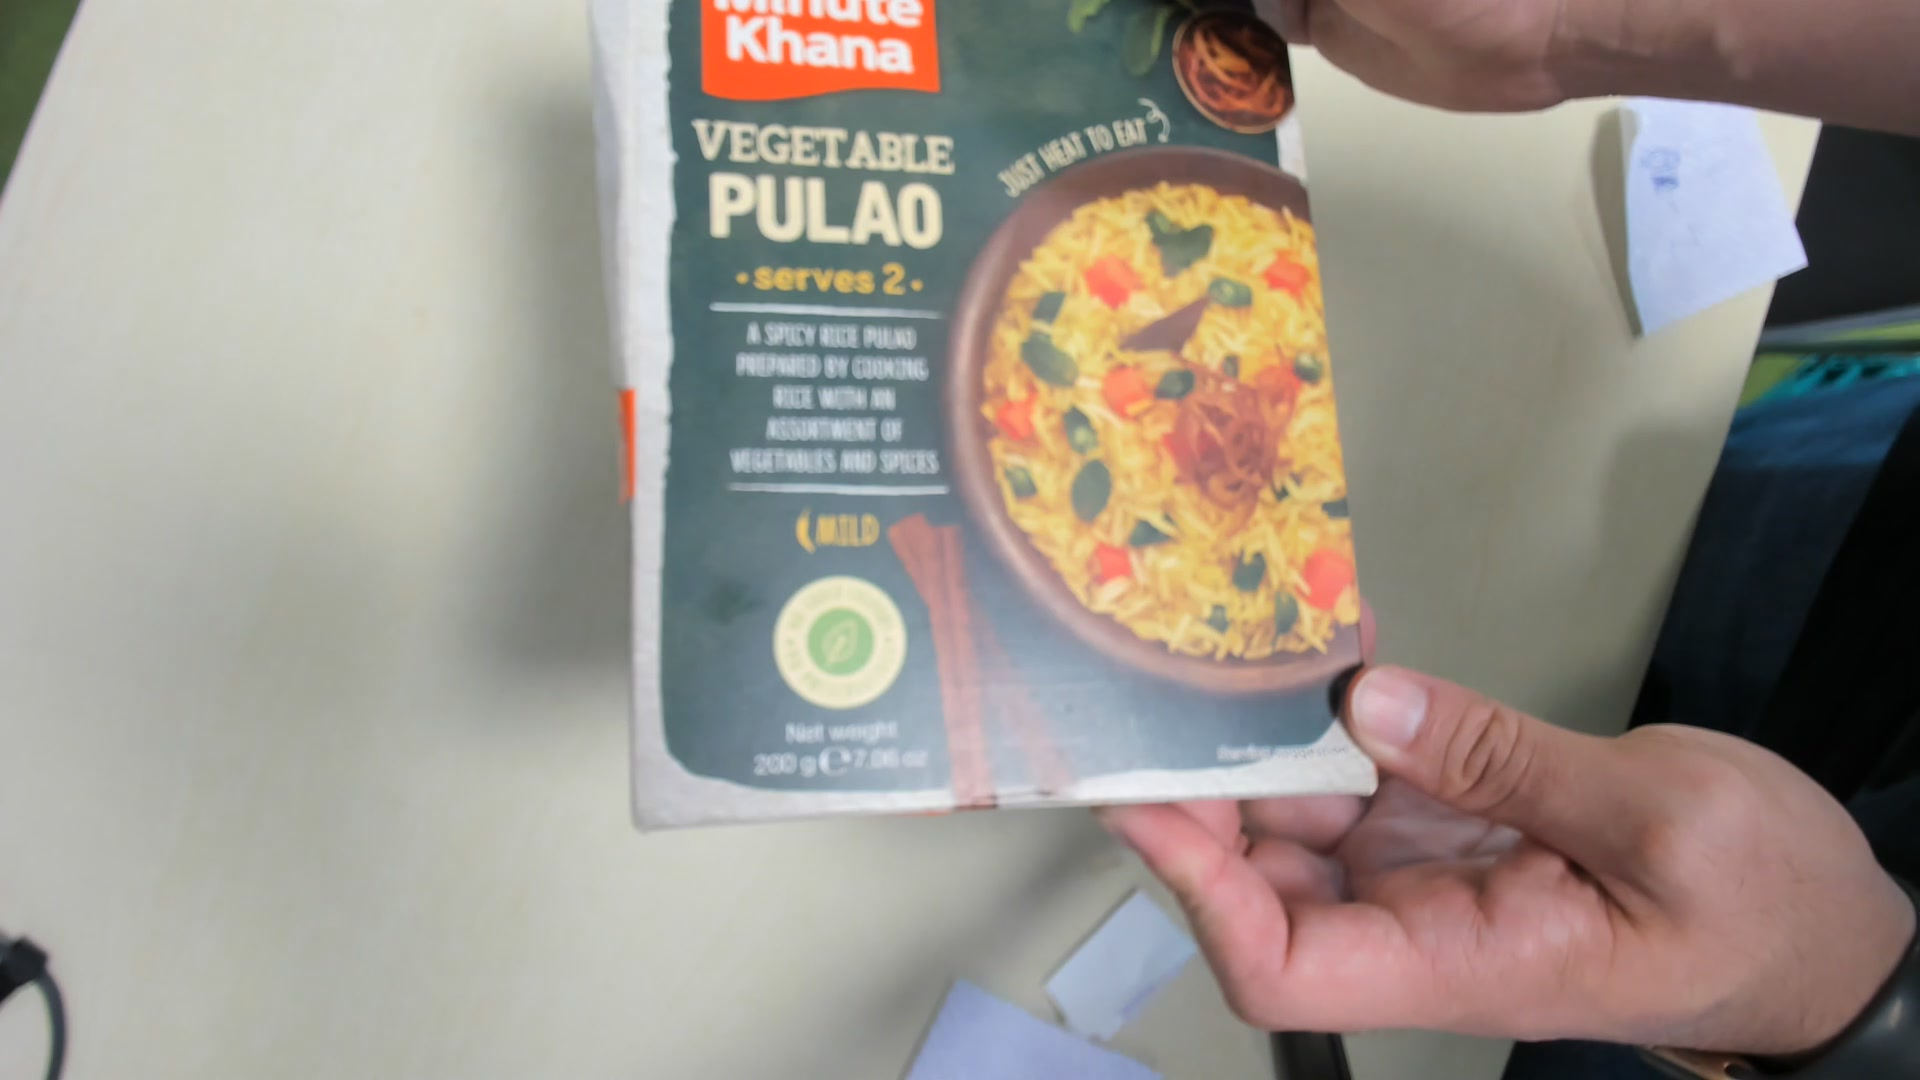InstantMeals_200_299g_NonHalal_NonHealthy: (588, 1, 1381, 823)
